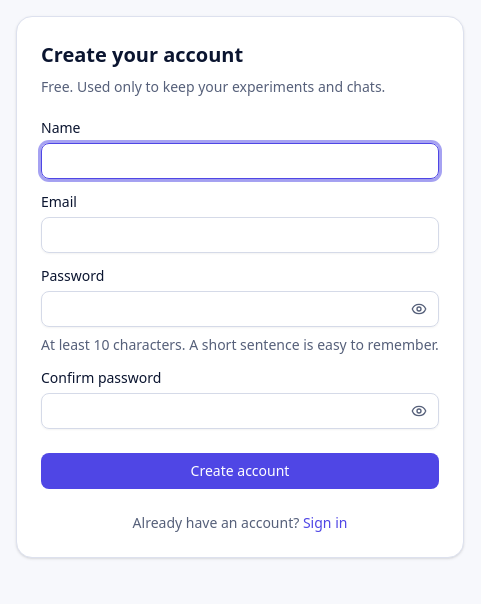
Test: Create account › checks the password length and that both passwords match
This screenshot has width=481, height=604.
Type "Asha" into the field labelled "Name". click: (240, 161)
box: x1=41 y1=143 x2=439 y2=179
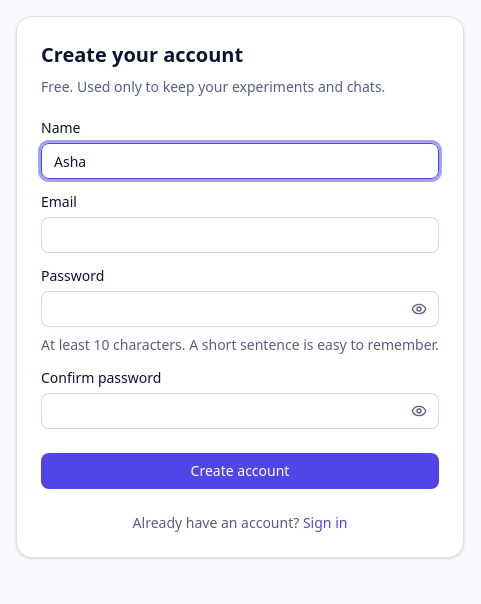
Type "asha@example.com" into the field labelled "Email". click: (240, 235)
box: x1=41 y1=217 x2=439 y2=253
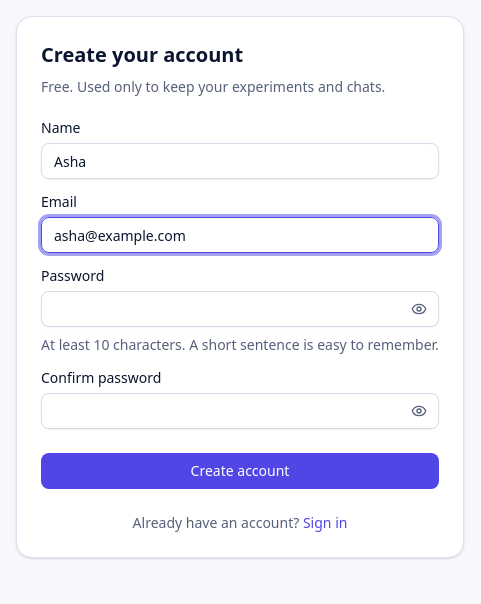
Type "short" into the password field labelled "Password". click: (240, 309)
box: x1=41 y1=291 x2=439 y2=327
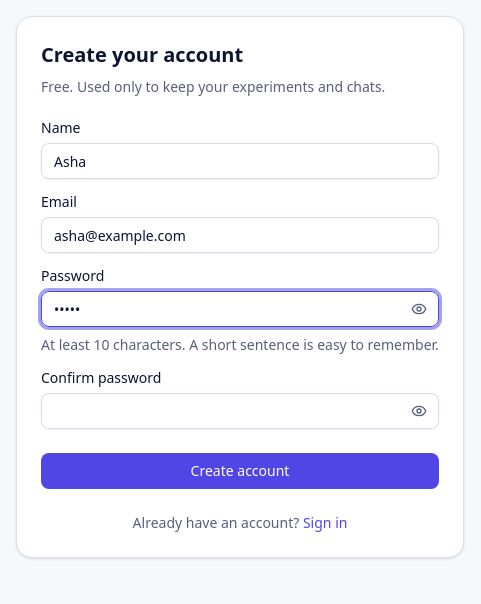
Type "other" into the password field labelled "Confirm password". click: (240, 411)
box: x1=41 y1=393 x2=439 y2=429
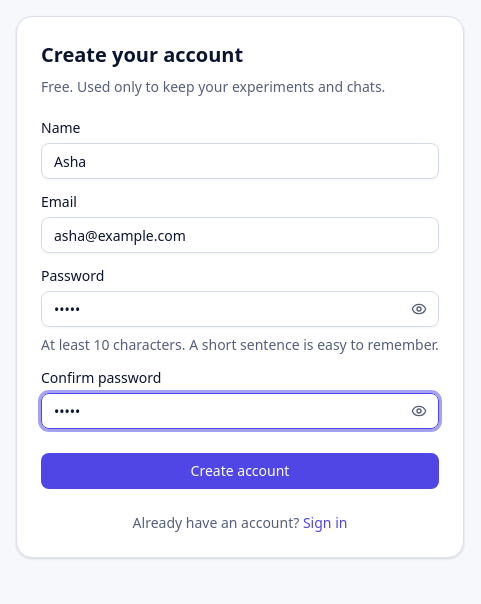
Click the button "Create account". click: (240, 471)
box: x1=41 y1=453 x2=439 y2=489
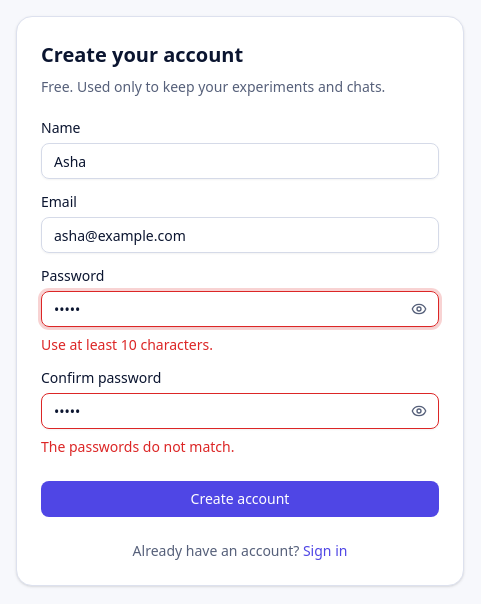
Result: the text "Use at least 10 characters." is shown at x1=41 y1=335 x2=213 y2=354
Result: the text "The passwords do not match." is shown at x1=41 y1=437 x2=234 y2=456
